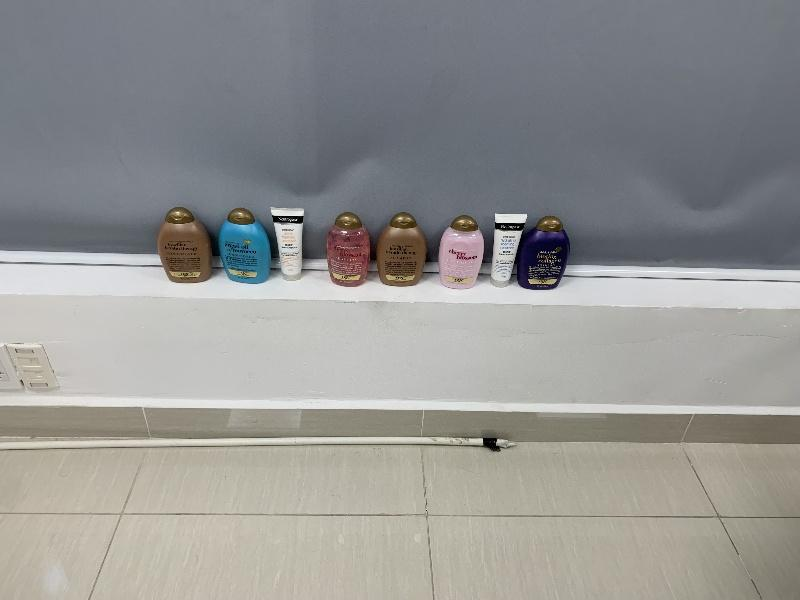AcneFoamingCleanser: (271, 207, 304, 281)
ArganOilOfMorocco_Conditioner: (217, 208, 271, 284)
BiotinCollagen_Shampoo: (523, 216, 570, 290)
BrazilianKeratinTherapy_Shampoo: (376, 212, 427, 286)
BrazilianKerationTherapy_Conditioner: (157, 207, 212, 284)
CherryBlossom_Conditioner: (438, 215, 484, 289)
CherryBlossom_Shampoo: (326, 212, 370, 287)
HydratingFoamingCleanser: (490, 213, 523, 289)
